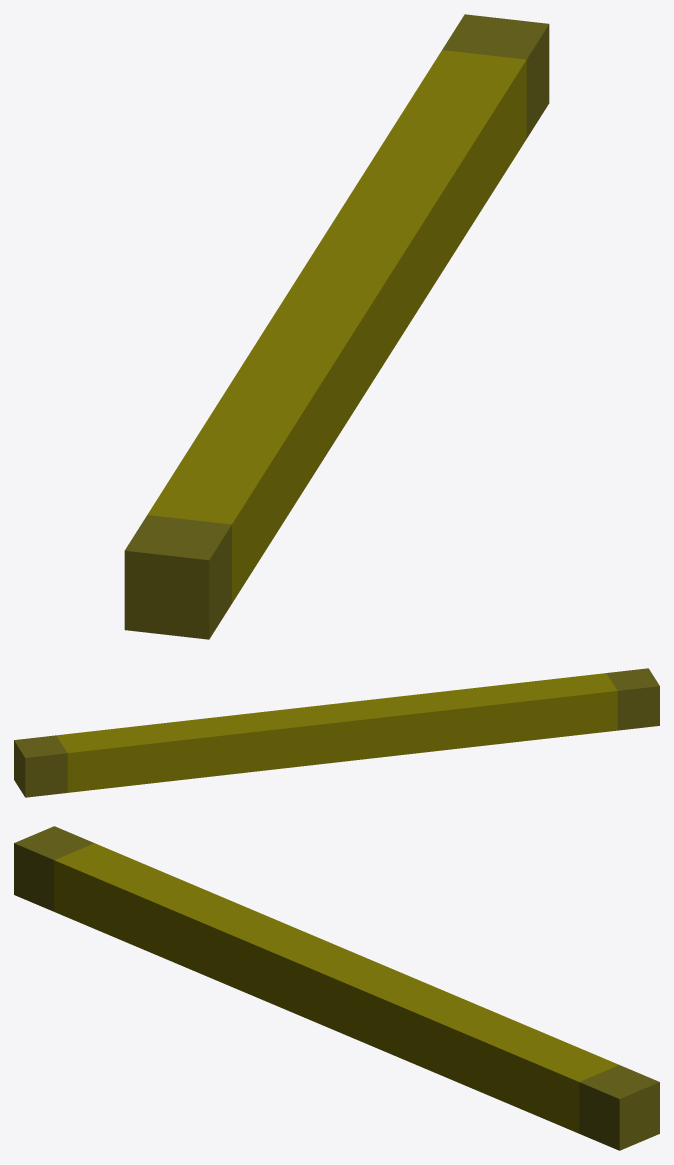
The model's file is item_MAGES_STAFF.glb.
3 views of the same model, one above another, from view 1: azimuth 30°, elevation 25°; view 2: azimuth 150°, elevation 25°; view 3: azimuth 270°, elevation 25° (orthographic). The views are drawn at different scales.
Visible parts, largest first — view 1: item_MAGES_STAFF; view 2: item_MAGES_STAFF; view 3: item_MAGES_STAFF.
Part boxes in pixels (x1=…): item_MAGES_STAFF: x1=124, y1=14, x2=549, y2=639; item_MAGES_STAFF: x1=14, y1=668, x2=659, y2=797; item_MAGES_STAFF: x1=14, y1=826, x2=659, y2=1150.
Bounding box in the file's own units: 0.5143 × 0.0455 × 0.5143.
Materials: 1 (1 with a texture image).
